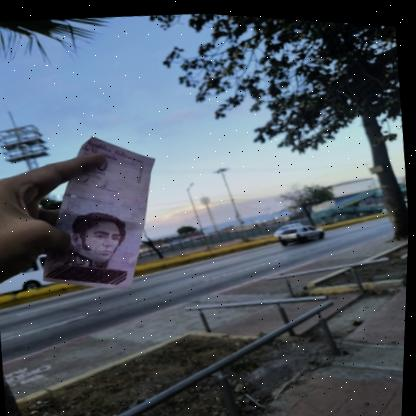one_hundred-front-vef: (29, 124, 170, 294)
